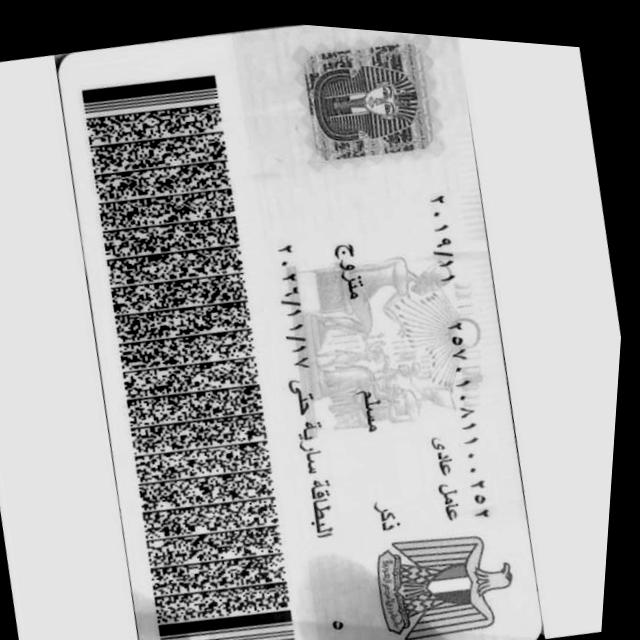back: (60, 24, 541, 640)
